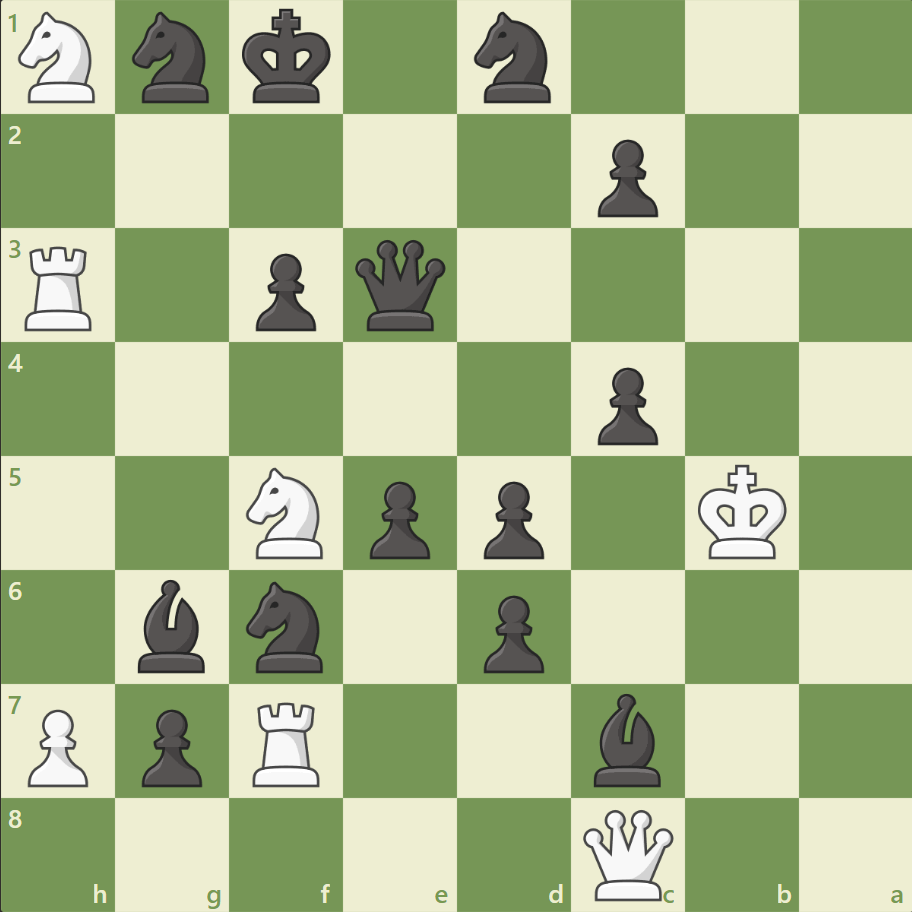K: (692, 458, 792, 566)
N: (238, 461, 335, 564), (11, 7, 108, 110)
P: (20, 700, 95, 791)
Q: (578, 804, 677, 903)
R: (246, 693, 329, 790), (19, 239, 102, 336)
b: (585, 687, 669, 790), (131, 574, 215, 676)
k: (238, 4, 338, 112)
n: (124, 7, 222, 110), (465, 7, 562, 110), (238, 575, 335, 677)
p: (133, 700, 208, 791), (474, 586, 549, 677), (474, 473, 549, 564), (247, 246, 322, 337), (361, 473, 435, 564), (588, 359, 662, 450), (588, 132, 662, 223)
q: (351, 236, 450, 335)
